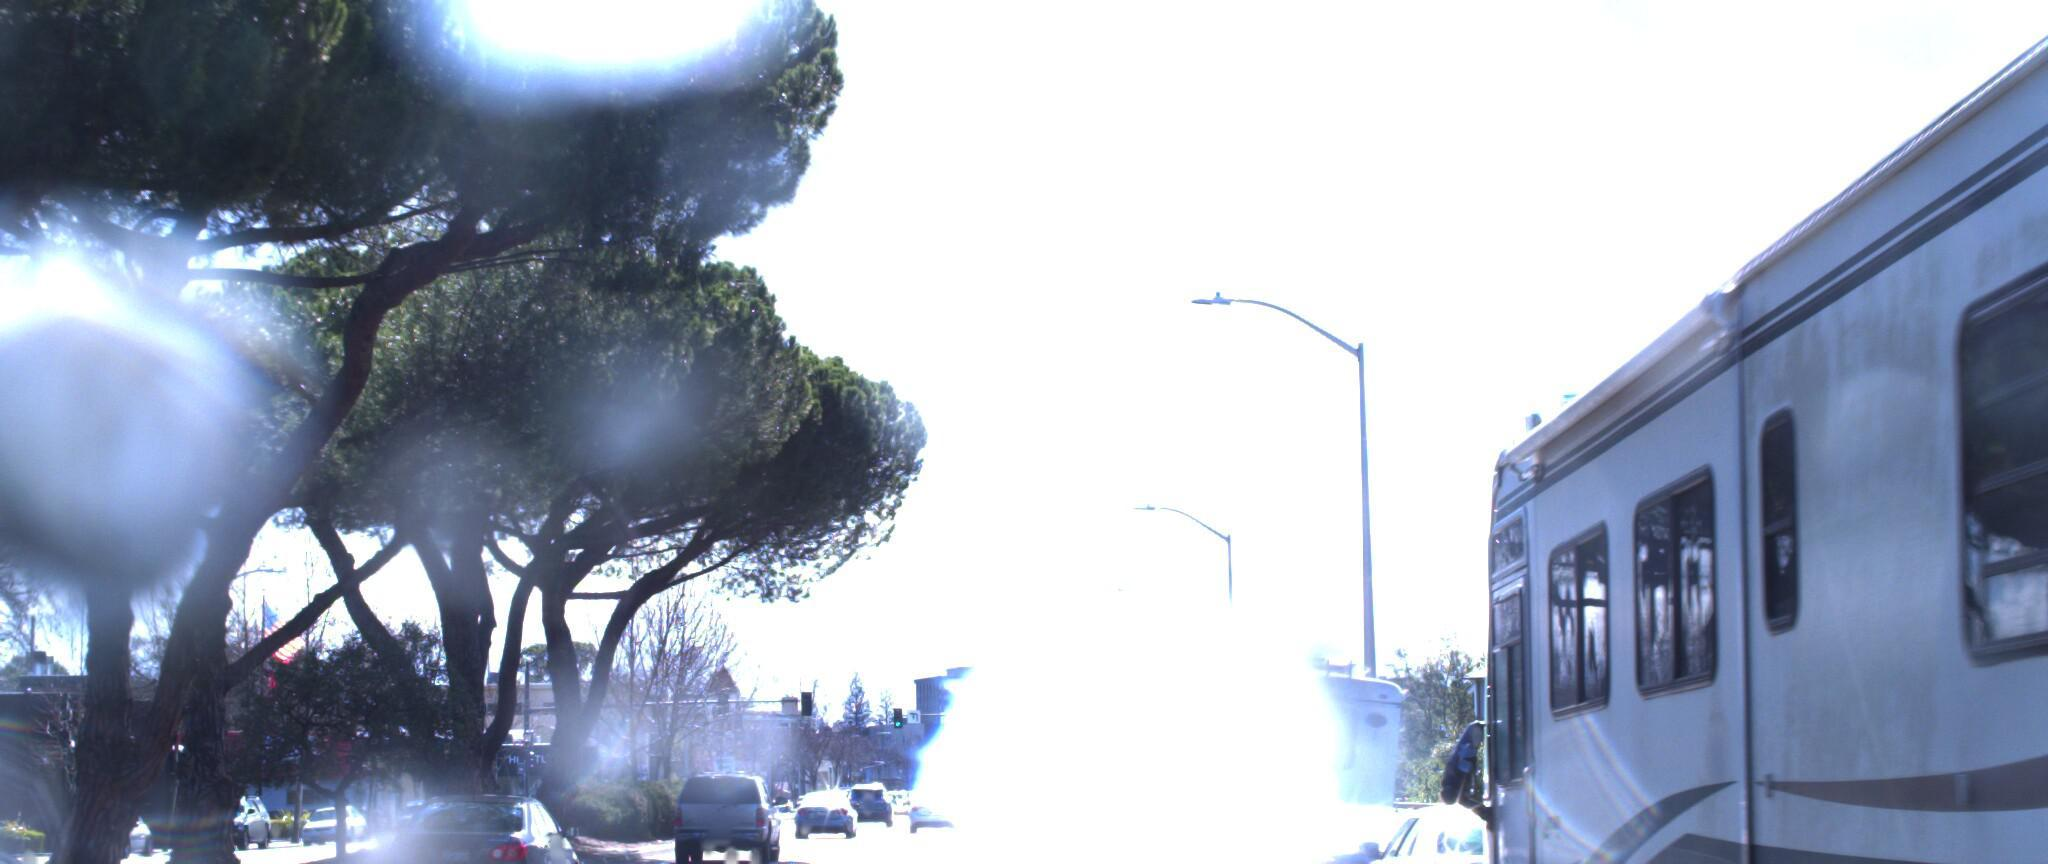car: (1428, 780, 1983, 864), (0, 762, 282, 864), (1334, 786, 1667, 864), (347, 774, 594, 864), (1266, 792, 1496, 864), (1213, 786, 1394, 864), (661, 767, 785, 851)
other_vehicle: (1413, 0, 2048, 864), (1164, 643, 1418, 864), (1135, 672, 1324, 864)
